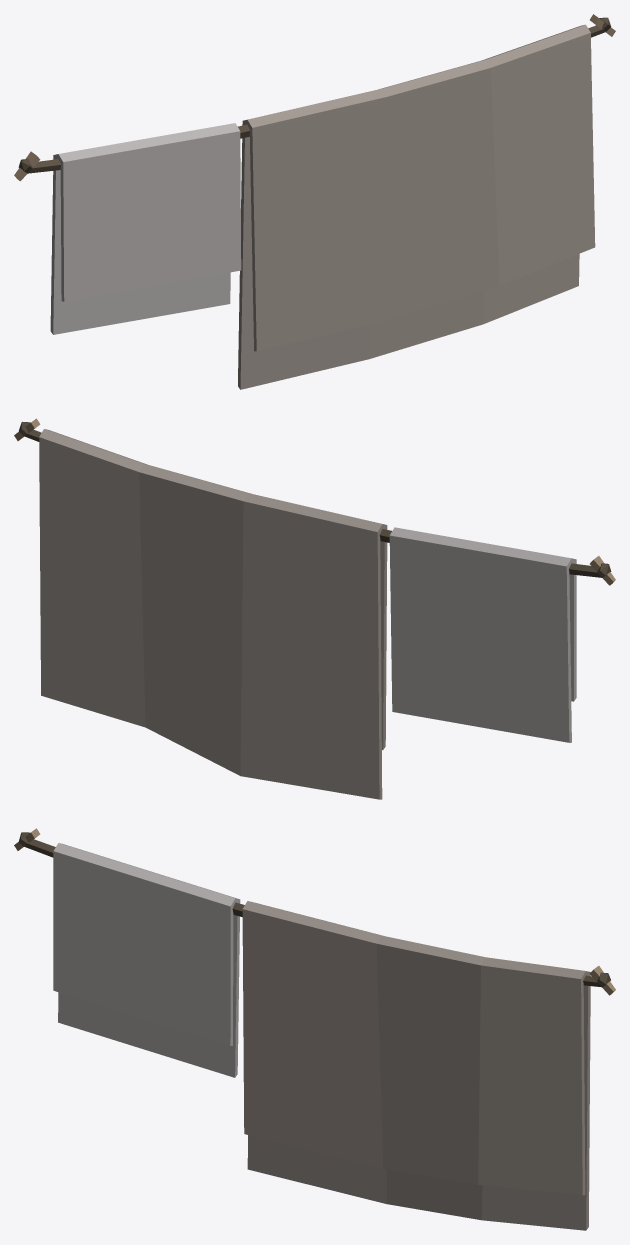
File: SM_Prop_Washingline_Small_02.glb
3 views of the same model, one above another, from view 1: azimuth 30°, elevation 25°; view 2: azimuth 150°, elevation 25°; view 3: azimuth 330°, elevation 25° (orthographic).
Parts seen in each view (by area): view 1: SM_Prop_Washingline_Small_02; view 2: SM_Prop_Washingline_Small_02; view 3: SM_Prop_Washingline_Small_02.
Part boxes in pixels (bbox=[...]): SM_Prop_Washingline_Small_02: bbox=[14, 14, 615, 389]; SM_Prop_Washingline_Small_02: bbox=[14, 418, 615, 799]; SM_Prop_Washingline_Small_02: bbox=[14, 828, 615, 1230].
Bounding box in the file's own units: 3.96 × 1.87 × 0.2514.
1 material, 1 textured.
